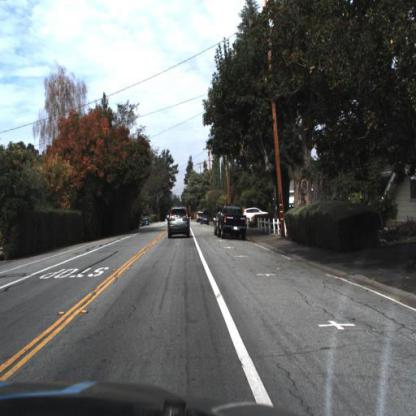car: (164, 202, 198, 246), (218, 202, 250, 246), (242, 204, 271, 222), (140, 213, 153, 231)
